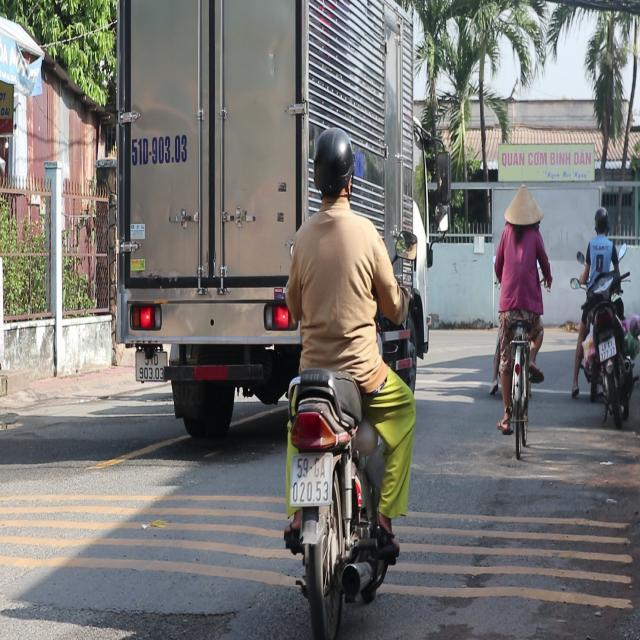helmet: (310, 127, 356, 204)
licenseplate: (271, 126, 422, 633)
nohelmet: (290, 452, 332, 504)
